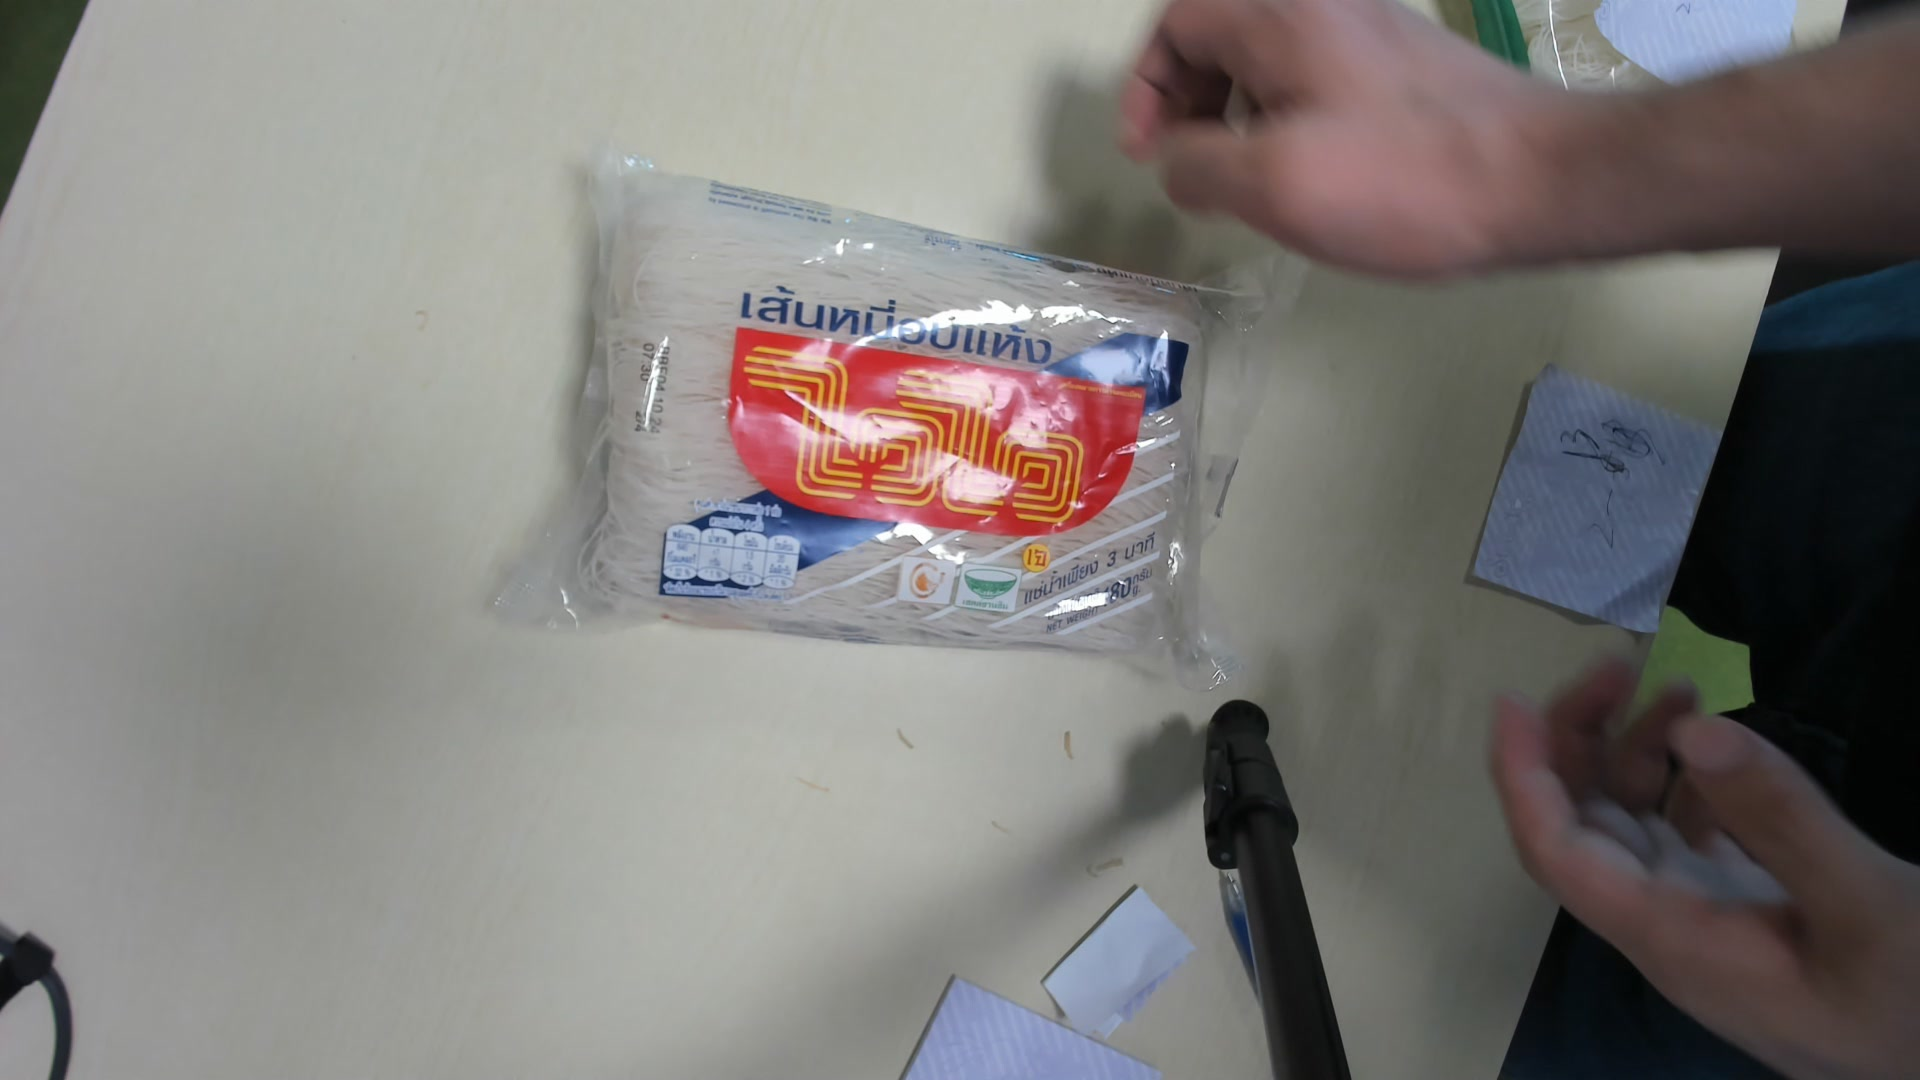BeeHoonVermicelli_100-199g_NonHalal_NonHealthy: (524, 162, 1280, 694)
